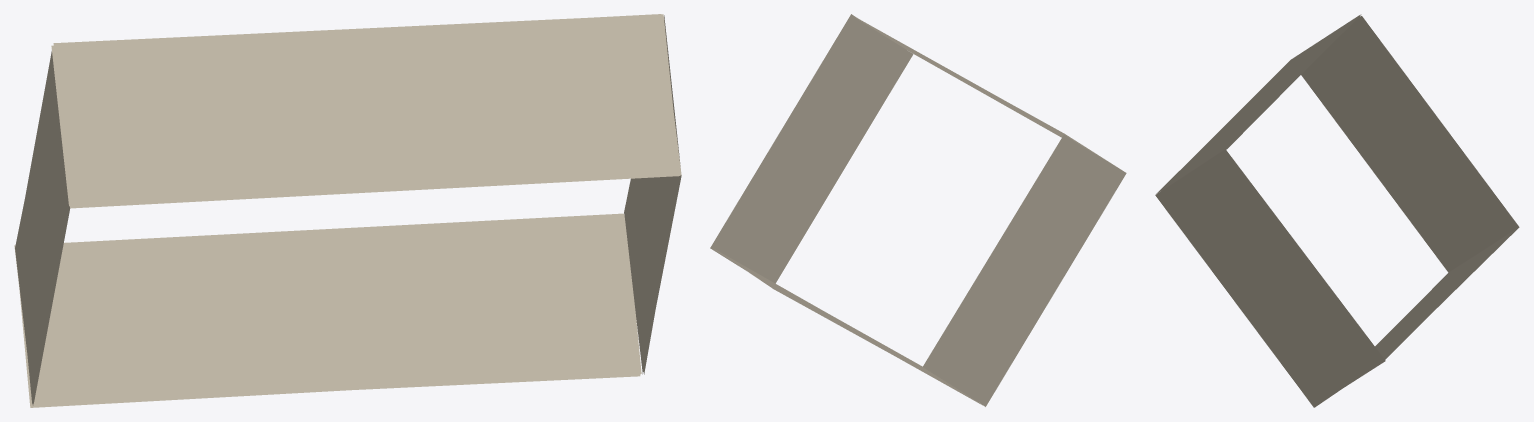
File: original_11.obj
3 renders of one model, left to right at view 1: azimuth 30°, elevation 25°; view 2: azimuth 150°, elevation 25°; view 3: azimuth 270°, elevation 25°, orthographic. The views are drawn at different scales.
Visible parts, largest first — view 1: #ID207; view 2: #ID207; view 3: #ID207.
Part boxes in pixels (x1,y1,x2,y2): #ID207: (14,14,681,407); #ID207: (710,14,1126,406); #ID207: (1155,14,1519,407).
Bounding box in the file's own units: 0.0486 × 0.0316 × 0.0427.
